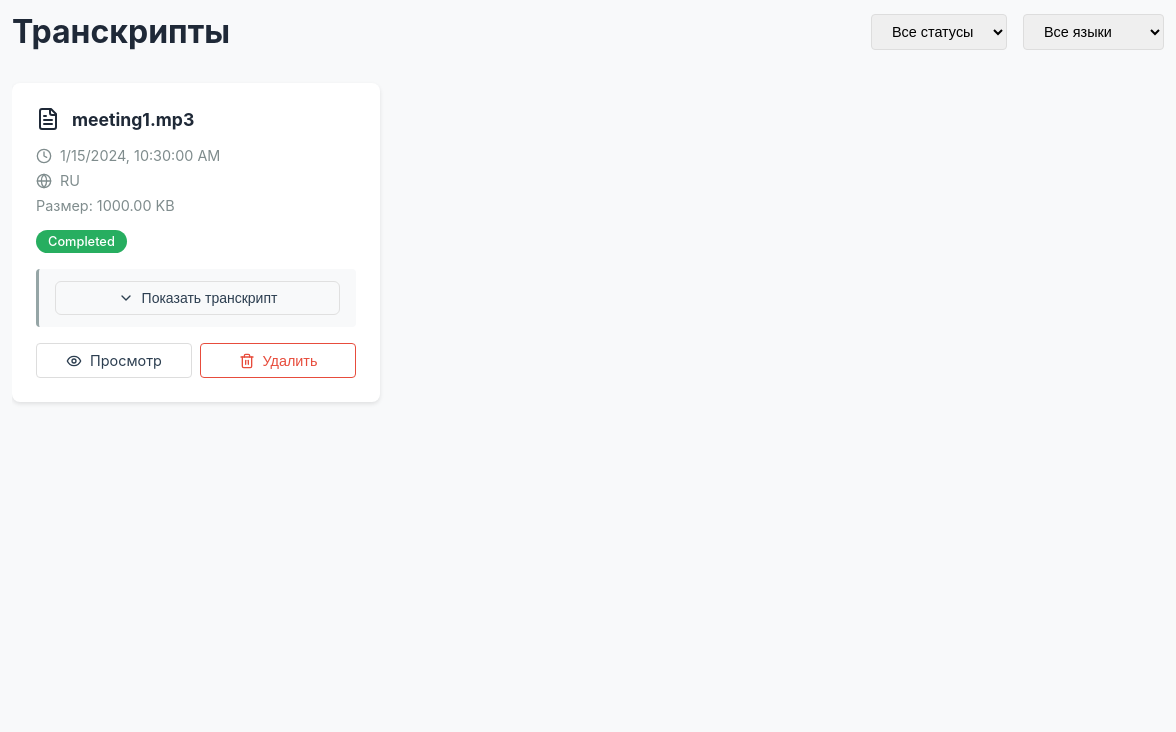
Test case: TranscriptsPage › Transcript Preview › should collapse transcript when hide button is clicked
Click the button "Показать транскрипт" at (198, 298), box left=55, top=281, right=340, bottom=315
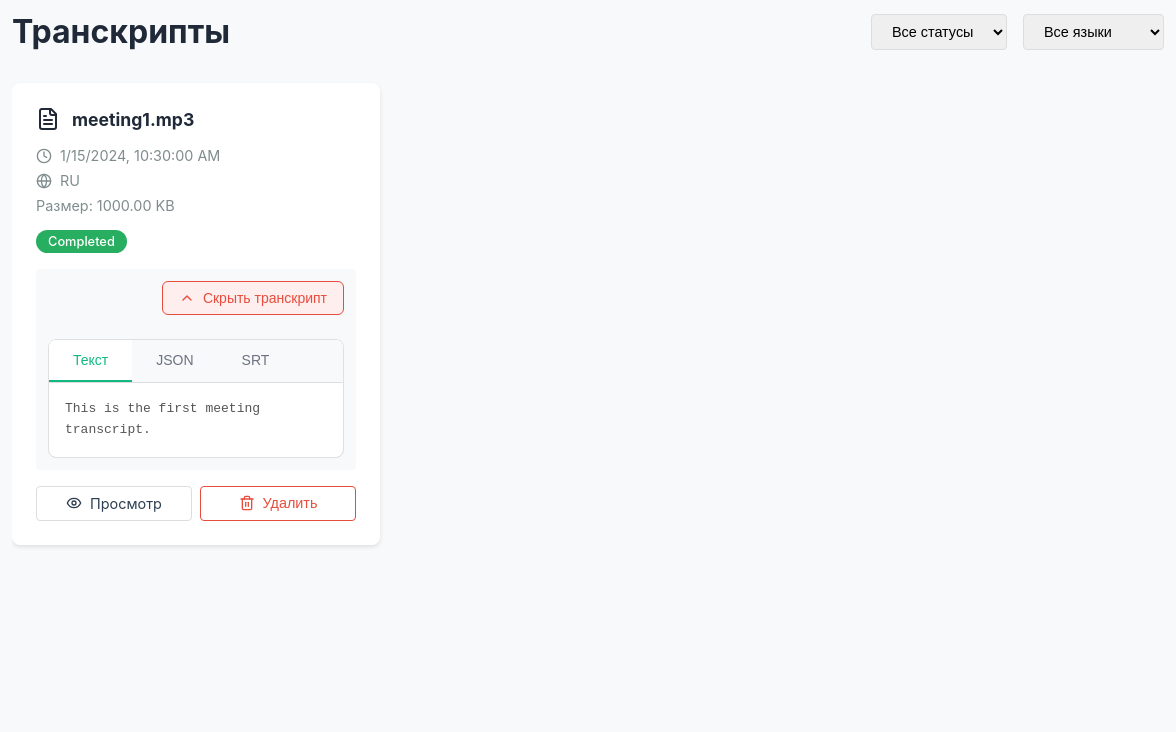
Expected: the text "This is the first meeting transcript." is shown, left=65, top=401, right=268, bottom=437
Click the button "Скрыть транскрипт" at (253, 298), box left=162, top=281, right=344, bottom=315
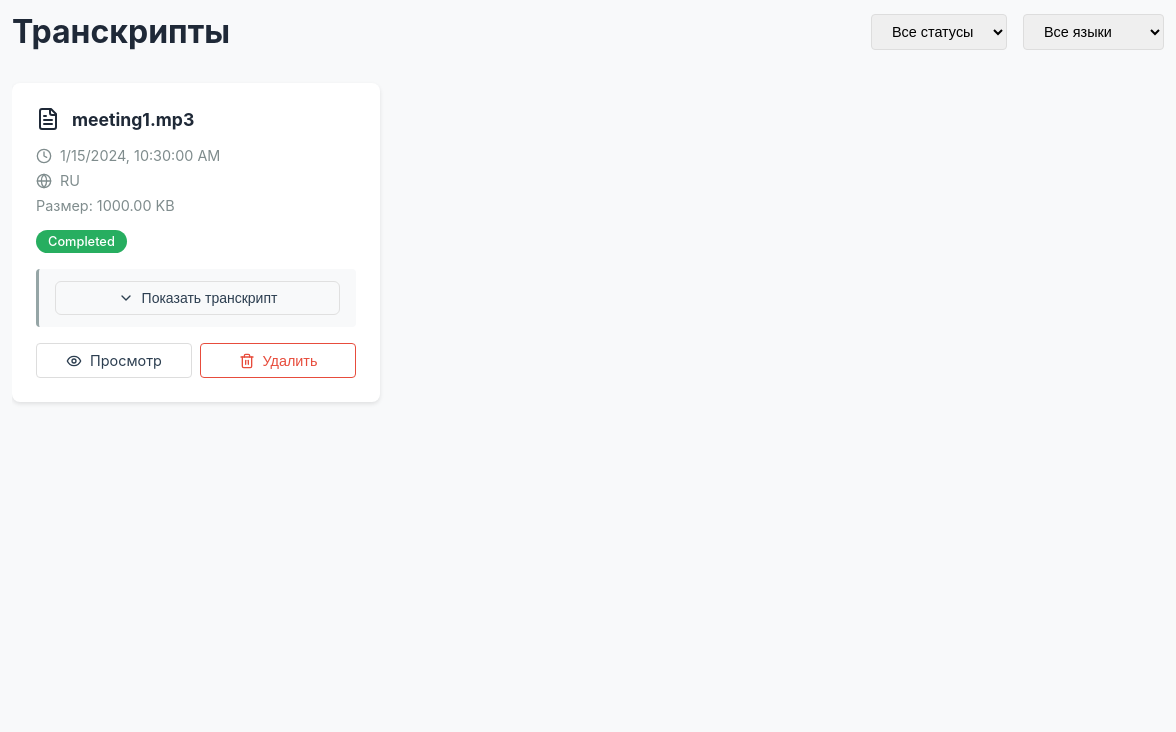
Expected: the text "This is the first meeting transcript." is gone
